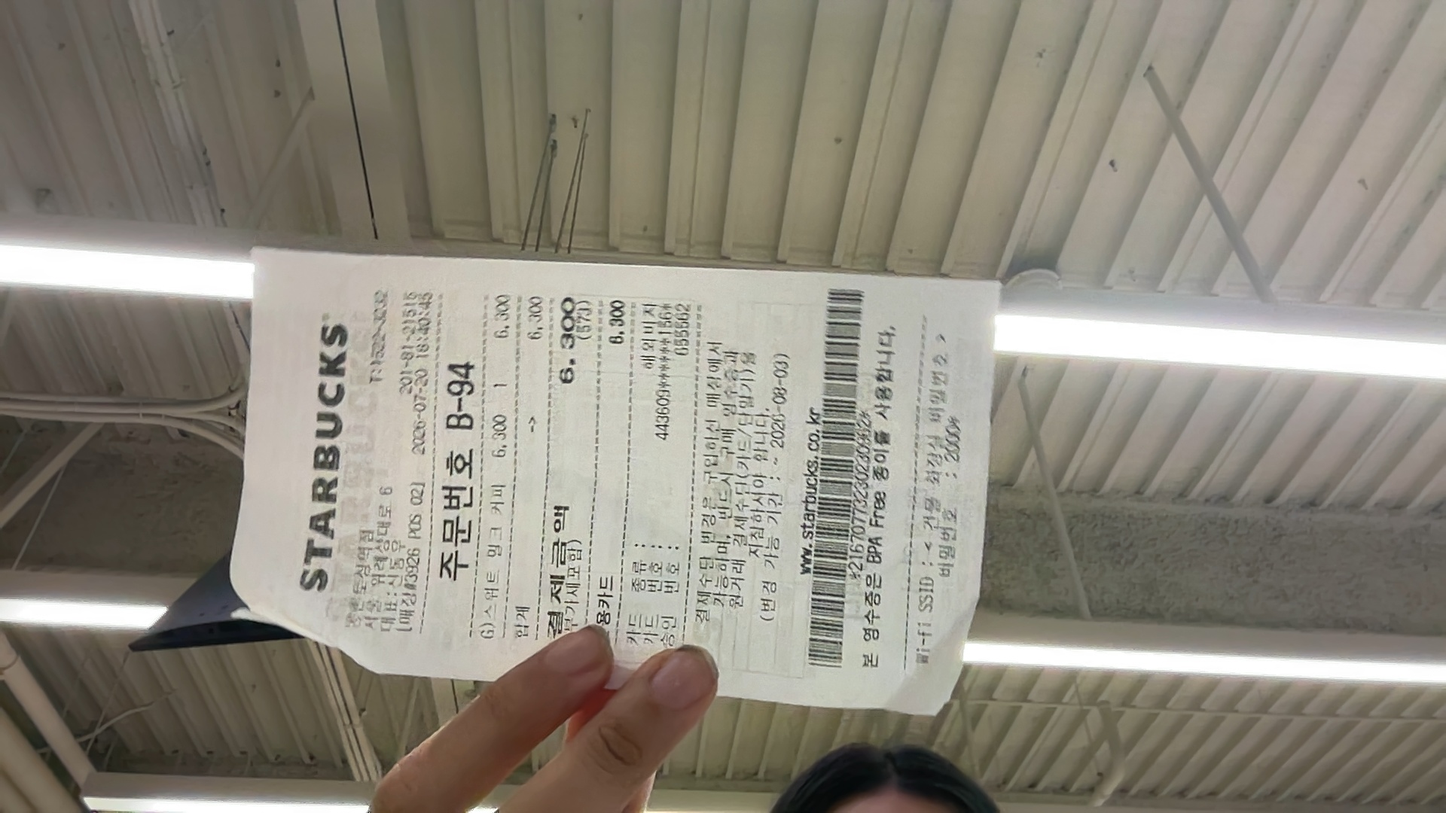Paper: (5, 410, 235, 608)
